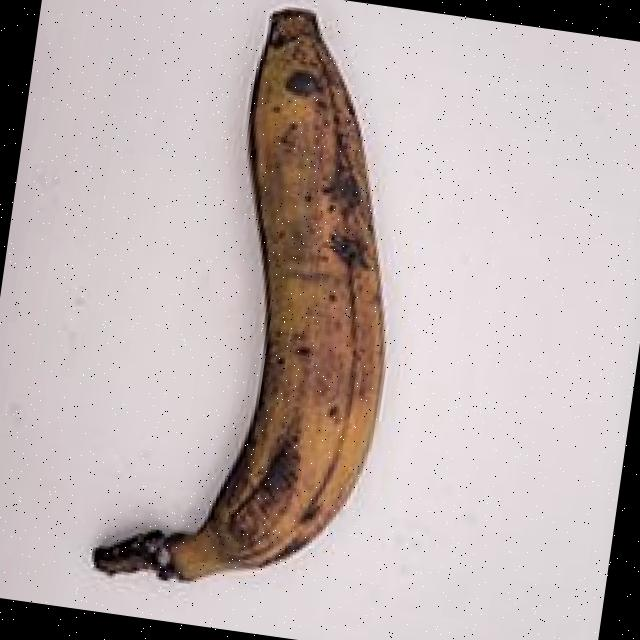Overripe: (42, 0, 499, 633)
